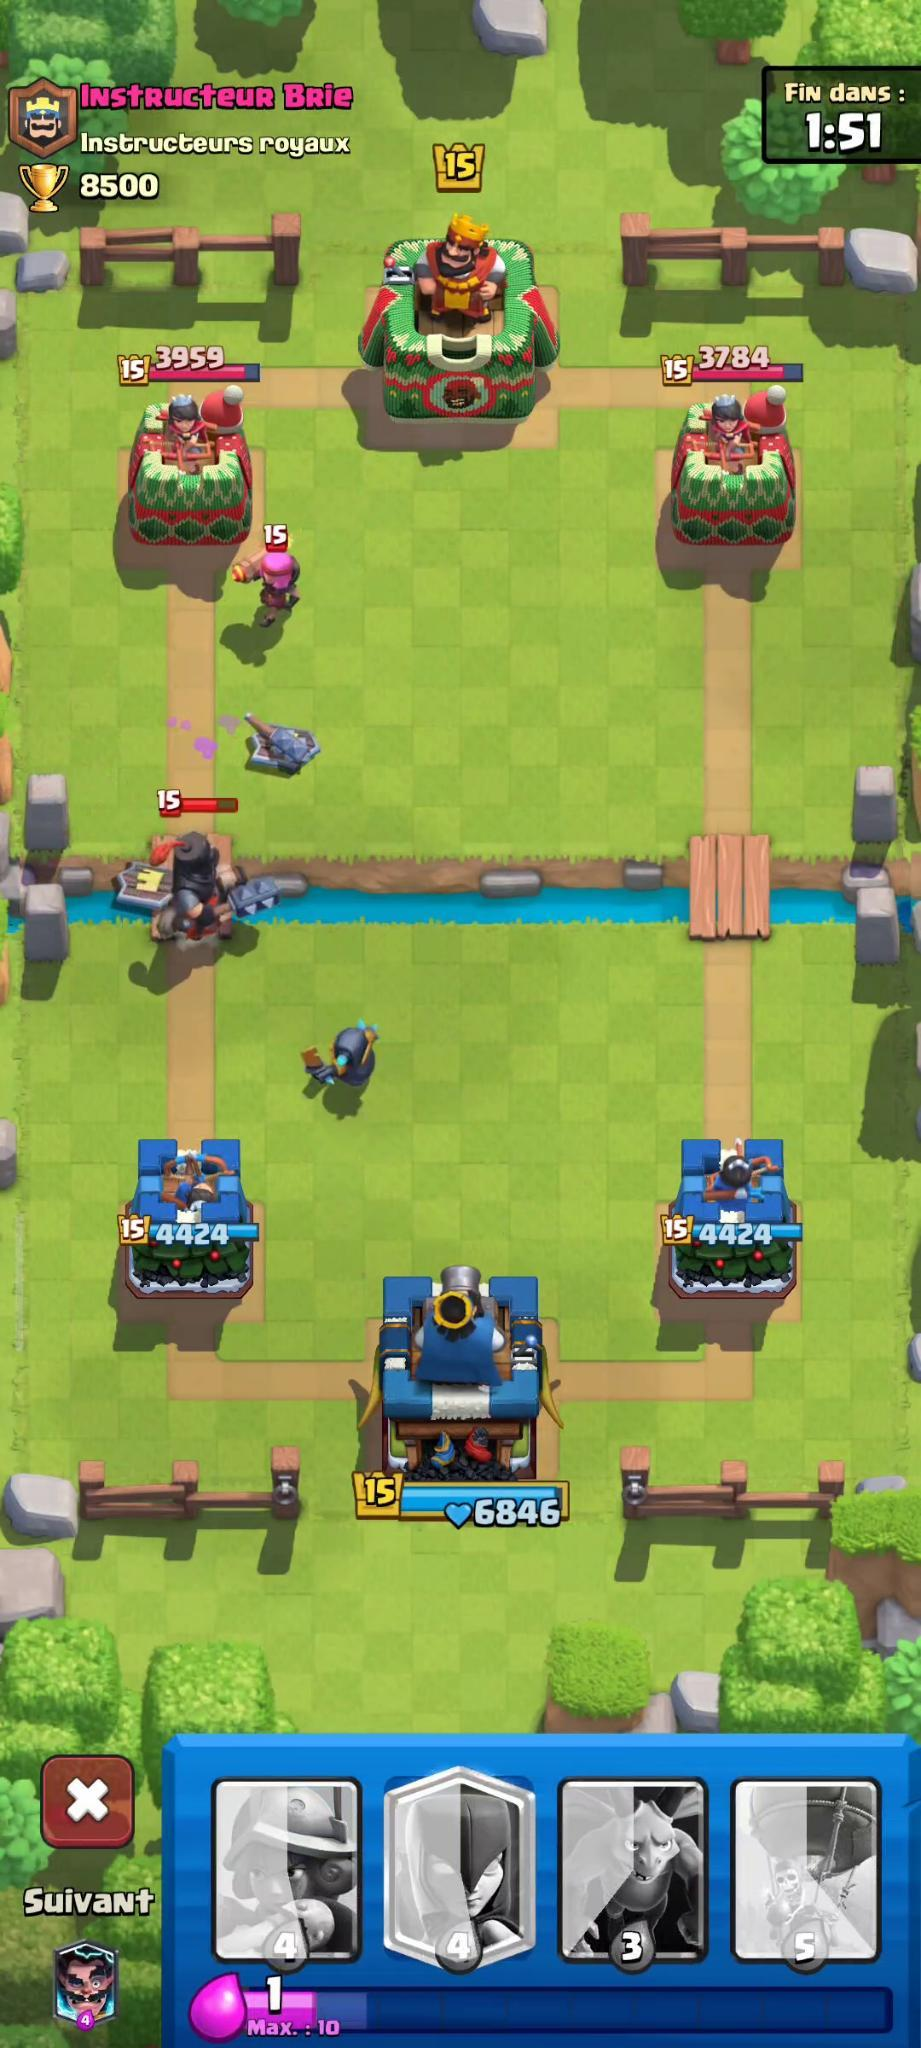enemy_dark_prince: (112, 790, 300, 952)
enemy_firecracker: (230, 524, 310, 628)
player_mini_pekka: (288, 990, 400, 1125)
